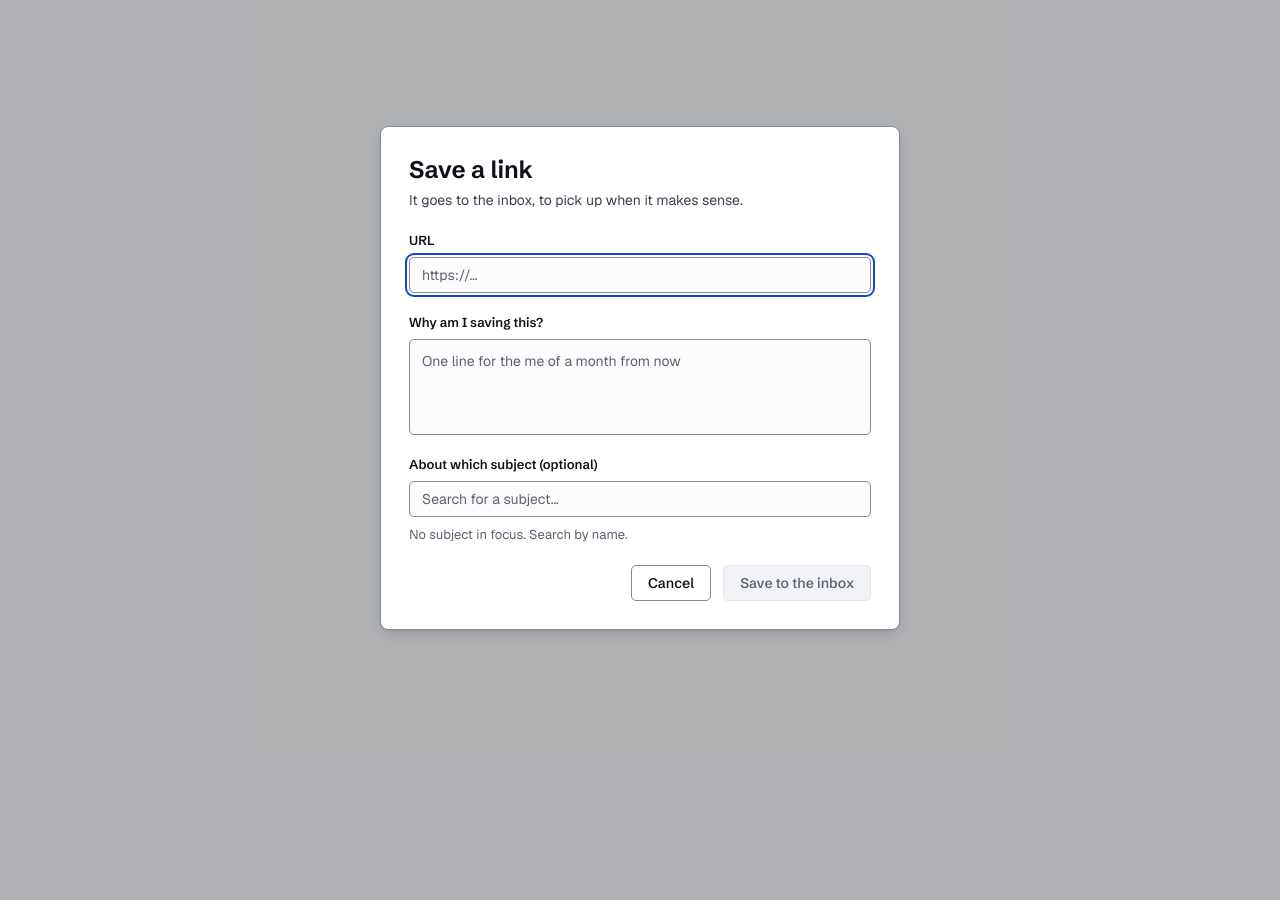
Scenario: SaveLinkDialog › keeps the dialog open and reports a failed save
Type "https://example.org/reading-list" into the field with id "save-url" at (640, 275), box [409,257,871,293]
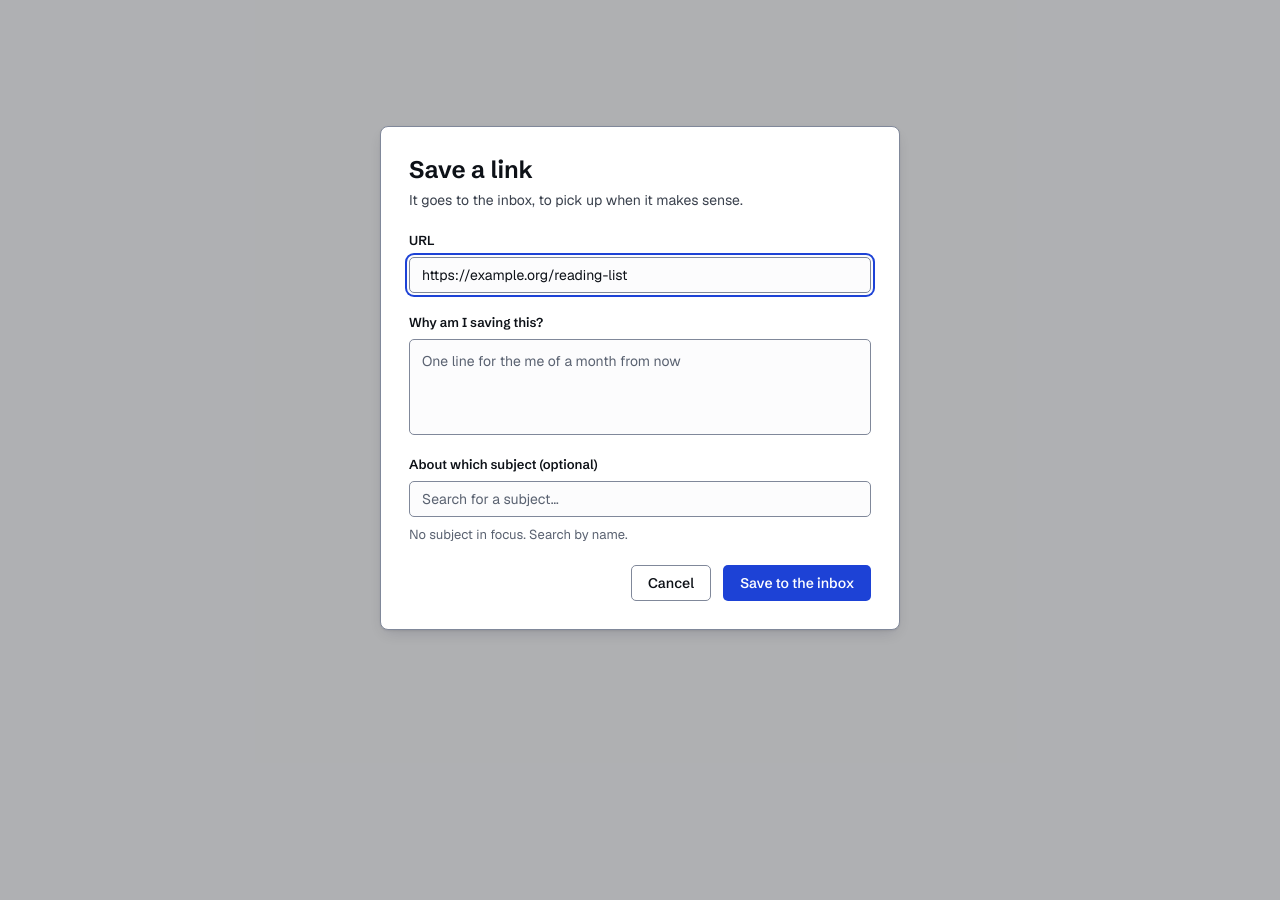
Submit the dialog, box [380,126,900,630]
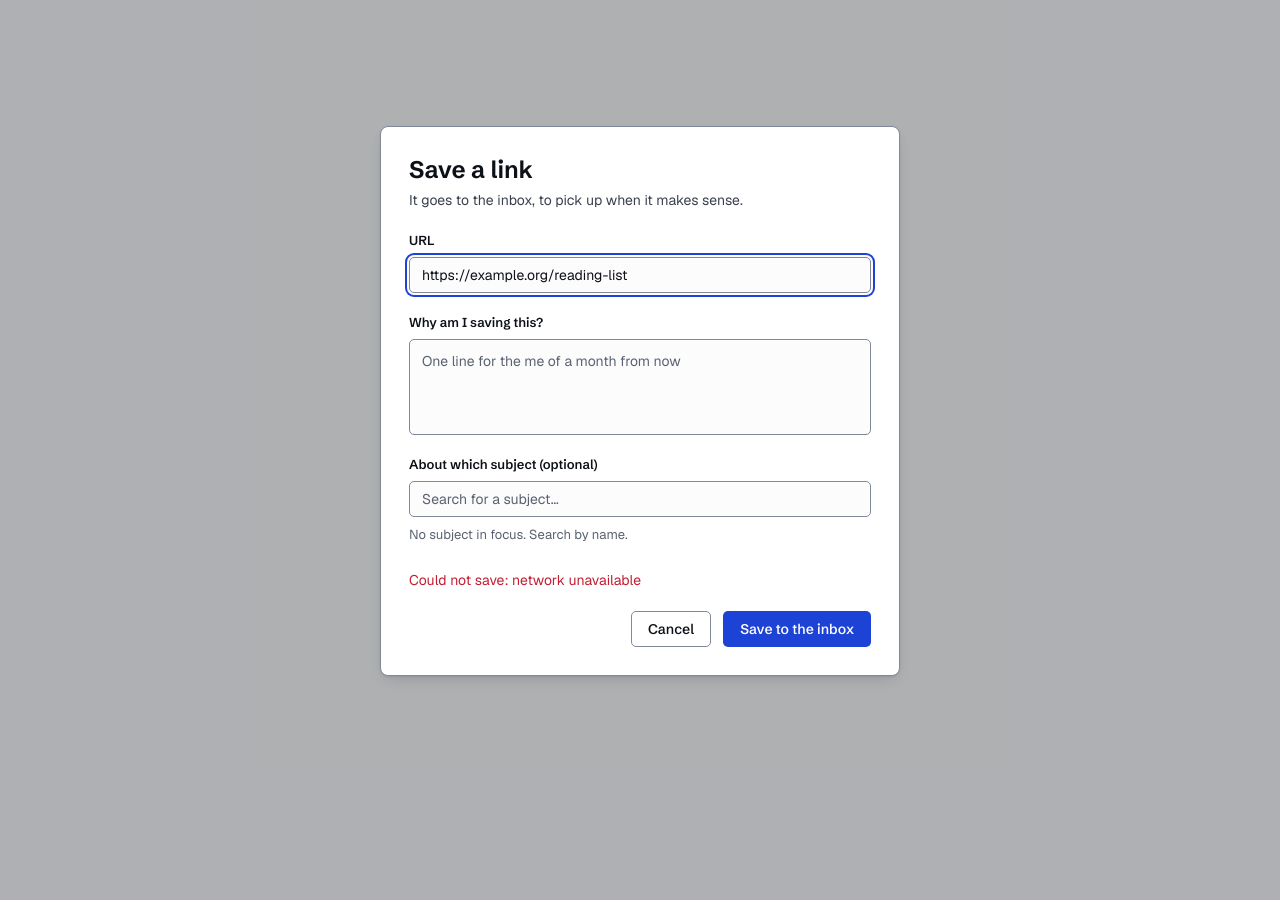
Result: the message "Could not save: network unavailable" is shown at [409,571,641,589]
